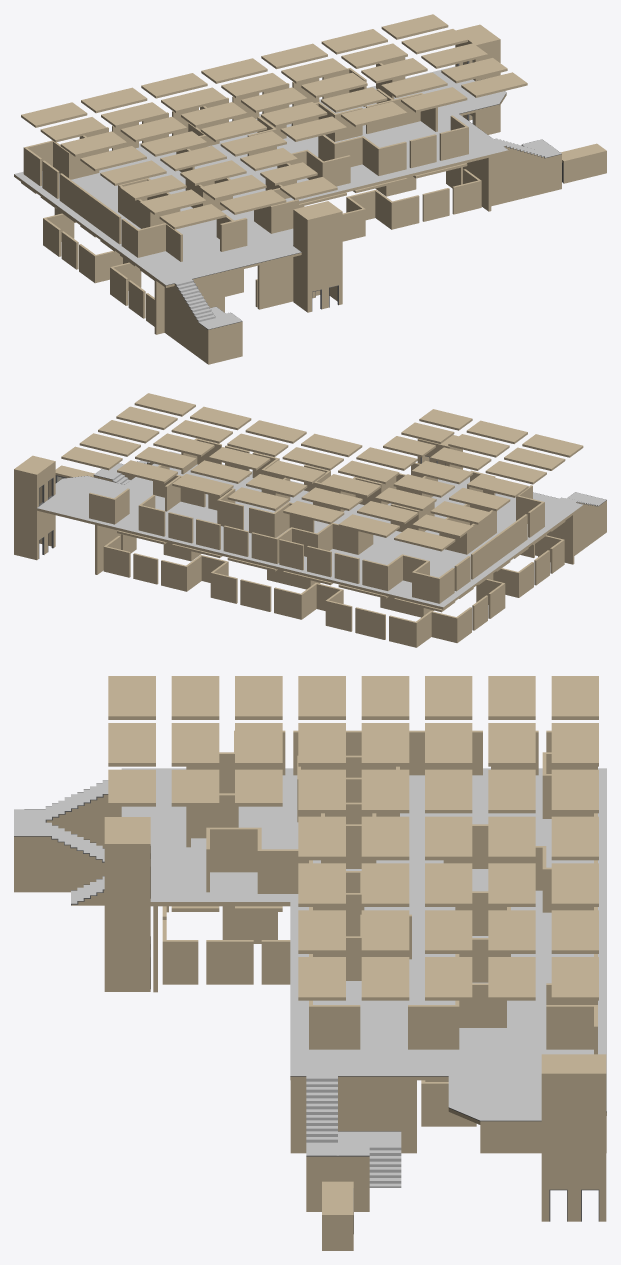
Rendered from Walls.fbx.
3 views of the same model, one above another, from view 1: azimuth 30°, elevation 25°; view 2: azimuth 150°, elevation 25°; view 3: azimuth 270°, elevation 25° (orthographic). The views are drawn at different scales.
Visible parts, largest first — view 1: SM_ceiling_2, SM_gallery_wall_2, SM_floor_2, SM_stairs, SM_gallery_wall_1, SM_lift_shafts, SM_booth, SM_ceiling_1; view 2: SM_ceiling_2, SM_gallery_wall_2, SM_gallery_wall_1, SM_floor_2, SM_lift_shafts, SM_stairs, SM_ceiling_1, SM_booth; view 3: SM_ceiling_2, SM_floor_2, SM_gallery_wall_2, SM_stairs, SM_lift_shafts, SM_gallery_wall_1, SM_booth, SM_stairs_border.
Part boxes in pixels (<box>): SM_ceiling_2: <box>21,14,527,229</box>; SM_gallery_wall_2: <box>23,57,468,261</box>; SM_floor_2: <box>14,66,508,287</box>; SM_stairs: <box>154,138,561,364</box>; SM_gallery_wall_1: <box>43,167,481,326</box>; SM_lift_shafts: <box>293,24,500,312</box>; SM_booth: <box>560,143,606,183</box>; SM_ceiling_1: <box>21,163,467,280</box>; SM_ceiling_2: <box>61,393,583,551</box>; SM_gallery_wall_2: <box>89,438,544,603</box>; SM_gallery_wall_1: <box>103,534,564,647</box>; SM_floor_2: <box>36,451,583,609</box>; SM_lift_shafts: <box>14,435,462,560</box>; SM_stairs: <box>93,460,606,574</box>; SM_ceiling_1: <box>117,521,565,612</box>; SM_booth: <box>55,465,94,482</box>; SM_ceiling_2: <box>108,676,598,1000</box>; SM_floor_2: <box>121,768,606,1124</box>; SM_gallery_wall_2: <box>186,730,597,1054</box>; SM_stairs: <box>14,780,606,1211</box>; SM_lift_shafts: <box>104,817,606,1221</box>; SM_gallery_wall_1: <box>162,906,476,1126</box>; SM_booth: <box>322,1181,353,1250</box>; SM_stairs_border: <box>14,780,606,1156</box>.
Bounding box in the file's own units: 5862 × 1298 × 3747.
